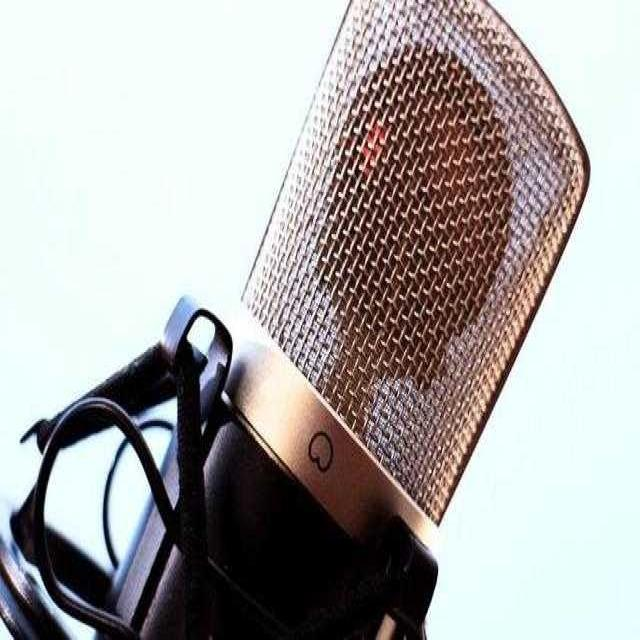microphone: (196, 0, 579, 634)
